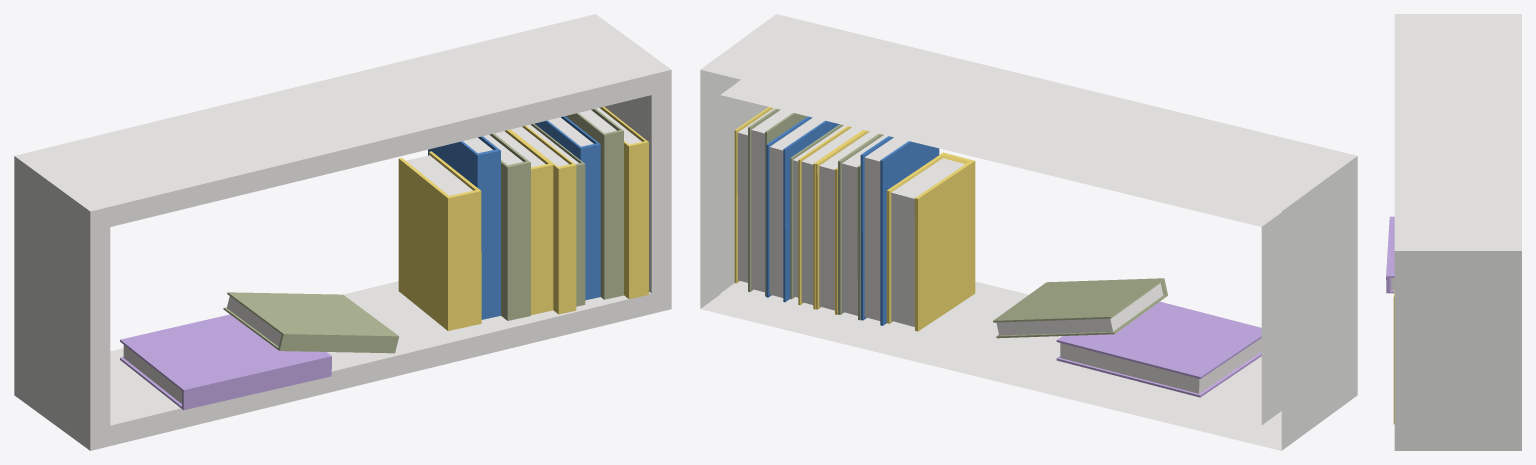
The model's file is Shelf_with_books_1.fbx.
3 renders of one model, left to right at view 1: azimuth 30°, elevation 25°; view 2: azimuth 150°, elevation 25°; view 3: azimuth 270°, elevation 25°, orthographic. The views are drawn at different scales.
Parts seen in each view (by area): view 1: Shelf_with_books_1; view 2: Shelf_with_books_1; view 3: Shelf_with_books_1.
Boxes of the visible parts, <box> form: Shelf_with_books_1: <box>14,14,671,450</box>; Shelf_with_books_1: <box>700,14,1357,450</box>; Shelf_with_books_1: <box>1386,14,1521,450</box>.
Size of the model in its own units: 160 by 38.86 by 63.12.
